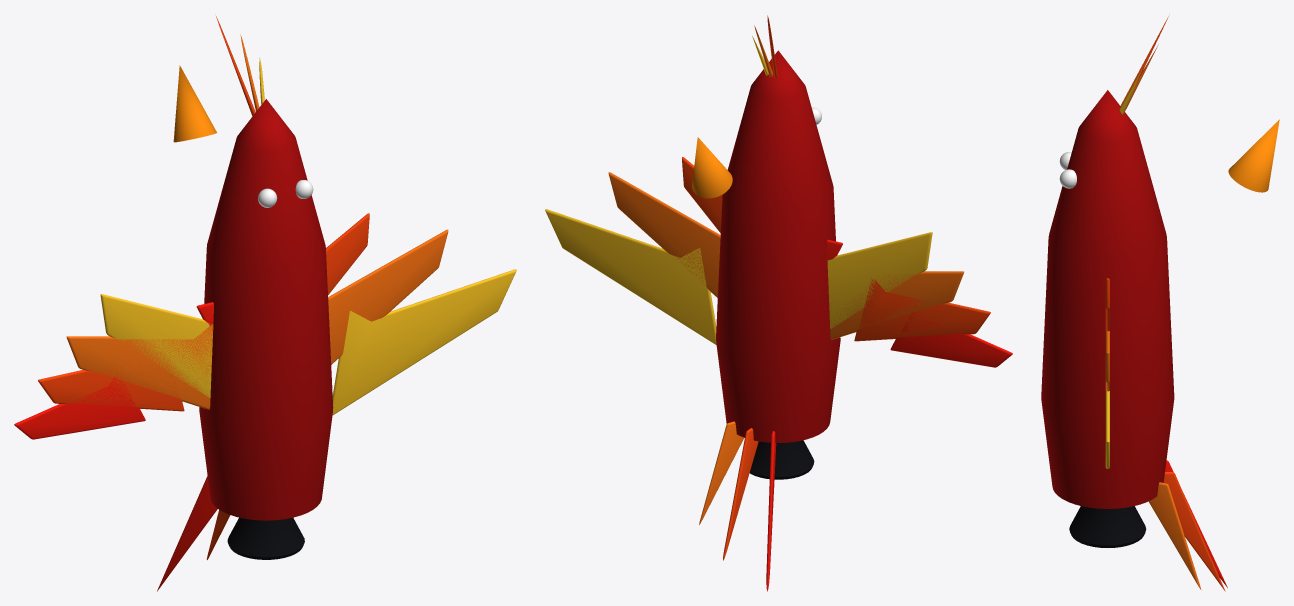
File: Rocket_32_Phoenix.obj
3 views of the same model, side by side, from view 1: azimuth 30°, elevation 25°; view 2: azimuth 150°, elevation 25°; view 3: azimuth 270°, elevation 25° (orthographic). The views are drawn at different scales.
Visible parts, largest first — view 1: R32_Body, R32_Feather, R32_Feather_6, R32_Feather_5, R32_Feather_2, R32_Feather_8, R32_Feather_7, R32_Nozzle, R32_Beak, R32_Feather_3, R32_TailFeather_3; view 2: R32_Body, R32_Feather, R32_Feather_5, R32_Feather_2, R32_Feather_7, R32_Feather_6, R32_Feather_8, R32_Nozzle, R32_Beak, R32_TailFeather, R32_TailFeather_2, R32_Feather_3 (+1 smaller); view 3: R32_Body, R32_Nozzle, R32_Beak, R32_TailFeather, R32_TailFeather_2, R32_Feather.
Part boxes in pixels (x1,y1,x2,y2): R32_Body: (199, 99, 333, 520); R32_Feather: (332, 269, 516, 414); R32_Feather_6: (66, 324, 213, 409); R32_Feather_5: (100, 294, 212, 398); R32_Feather_2: (328, 229, 448, 364); R32_Feather_8: (14, 373, 145, 439); R32_Feather_7: (38, 361, 184, 411); R32_Nozzle: (227, 517, 304, 559); R32_Beak: (173, 65, 216, 142); R32_Feather_3: (326, 213, 369, 294); R32_TailFeather_3: (157, 476, 217, 591); R32_Body: (716, 50, 840, 442); R32_Feather: (545, 209, 716, 344); R32_Feather_5: (827, 232, 932, 328); R32_Feather_2: (608, 172, 720, 297); R32_Feather_7: (854, 277, 990, 341); R32_Feather_6: (827, 259, 964, 339); R32_Feather_8: (890, 305, 1012, 367); R32_Nozzle: (749, 440, 814, 479); R32_Beak: (692, 137, 732, 198); R32_TailFeather: (699, 421, 743, 524); R32_TailFeather_2: (723, 428, 758, 560); R32_Feather_3: (682, 157, 722, 232); R32_Body: (1041, 90, 1174, 508); R32_Nozzle: (1069, 506, 1146, 547); R32_Beak: (1228, 119, 1279, 192); R32_TailFeather: (1148, 482, 1201, 589); R32_TailFeather_2: (1163, 472, 1225, 591); R32_Feather: (1105, 391, 1109, 468).
Bounding box in the file's own units: 7.79 × 8.77 × 3.22.
